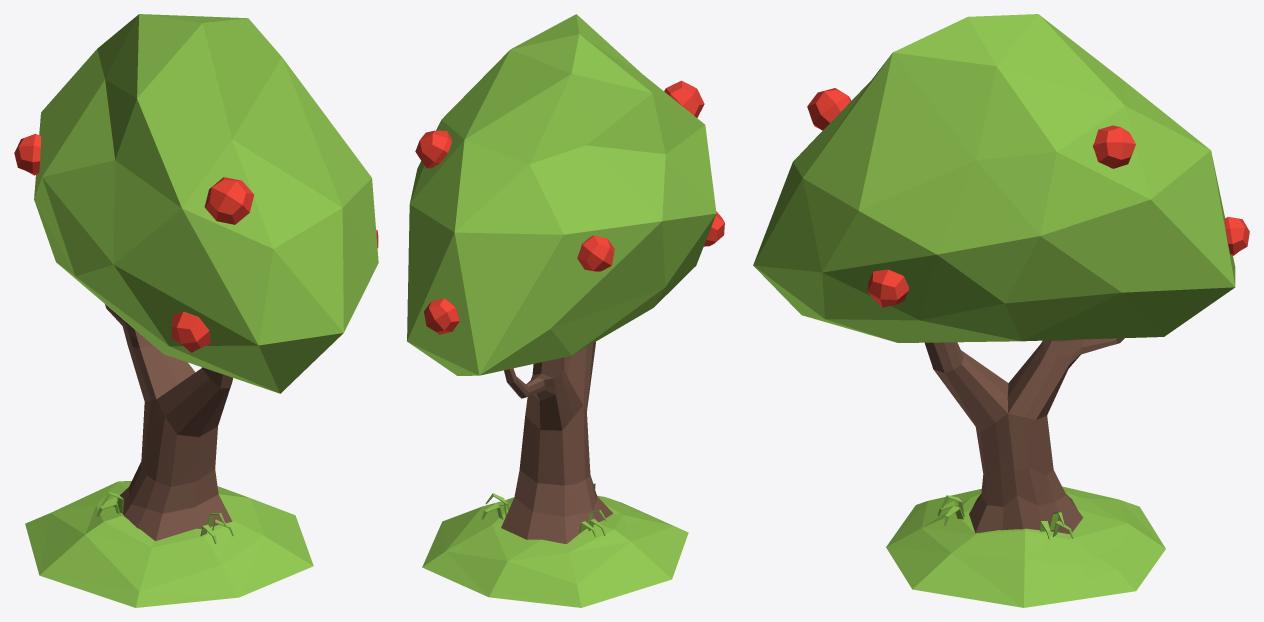
The model's file is AppleTree.glb.
The picture shows the model from 3 angles, left to right: view 1: azimuth 30°, elevation 25°; view 2: azimuth 150°, elevation 25°; view 3: azimuth 270°, elevation 25°; orthographic projection. The views are drawn at different scales.
Visible parts, largest first — view 1: apple_tree_01_Cube.001; view 2: apple_tree_01_Cube.001; view 3: apple_tree_01_Cube.001.
Boxes of the visible parts, box(x1,y1,x2,y2) form: apple_tree_01_Cube.001: box(14, 14, 378, 607); apple_tree_01_Cube.001: box(407, 14, 724, 607); apple_tree_01_Cube.001: box(753, 14, 1249, 607).
Bounding box in the file's own units: 105 × 199 × 168.
